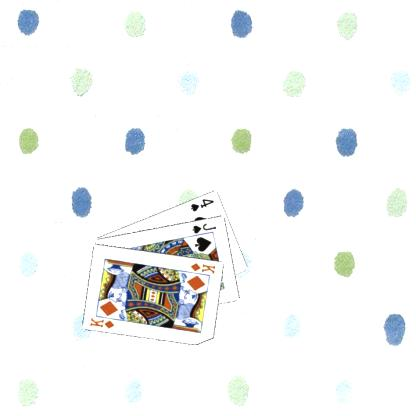4S: (188, 196, 215, 212)
JS: (190, 220, 218, 235)
KD: (188, 260, 217, 275), (88, 315, 116, 329)
